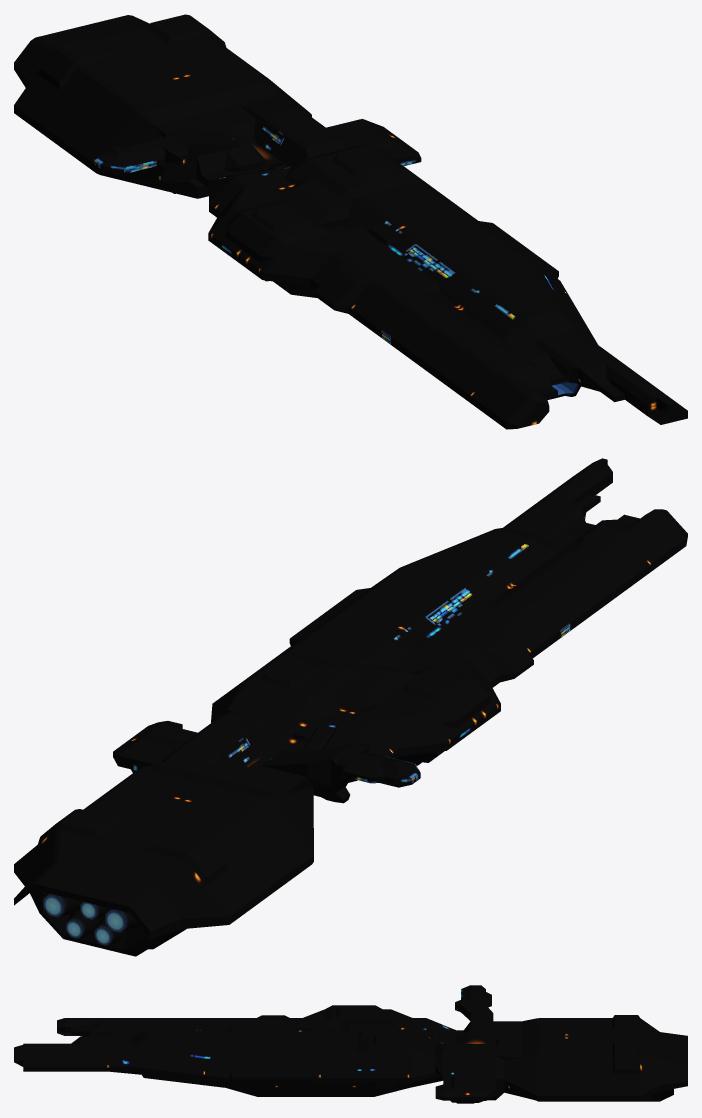
File: MissionSequence_Totek_intro.glb
3 views of the same model, one above another, from view 1: azimuth 30°, elevation 25°; view 2: azimuth 150°, elevation 25°; view 3: azimuth 270°, elevation 25° (orthographic). The views are drawn at different scales.
Visible parts, largest first — view 1: hgn_fs_expe_01_t1_LOD1; view 2: hgn_fs_expe_01_t1_LOD1; view 3: hgn_fs_expe_01_t1_LOD1.
Part boxes in pixels (x1=…): hgn_fs_expe_01_t1_LOD1: x1=14, y1=14, x2=687, y2=429; hgn_fs_expe_01_t1_LOD1: x1=14, y1=458, x2=687, y2=956; hgn_fs_expe_01_t1_LOD1: x1=14, y1=985, x2=687, y2=1103.
Size of the model in its own units: 3.54 by 1.36 by 11.58.
Materials: 1 (1 with a texture image).
